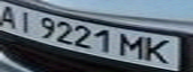1: (90, 26, 118, 55)
2: (51, 18, 75, 47), (72, 22, 93, 51)
9: (33, 15, 57, 40)
A: (0, 2, 21, 29)
I: (12, 8, 39, 34)
K: (139, 36, 178, 65)
M: (115, 32, 148, 61)
